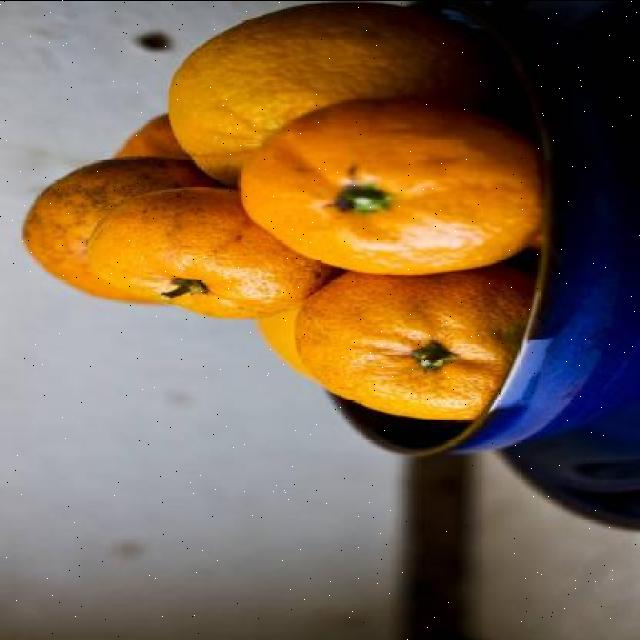Orange: (165, 2, 492, 186), (237, 97, 541, 277), (292, 267, 532, 423), (84, 186, 333, 320)
